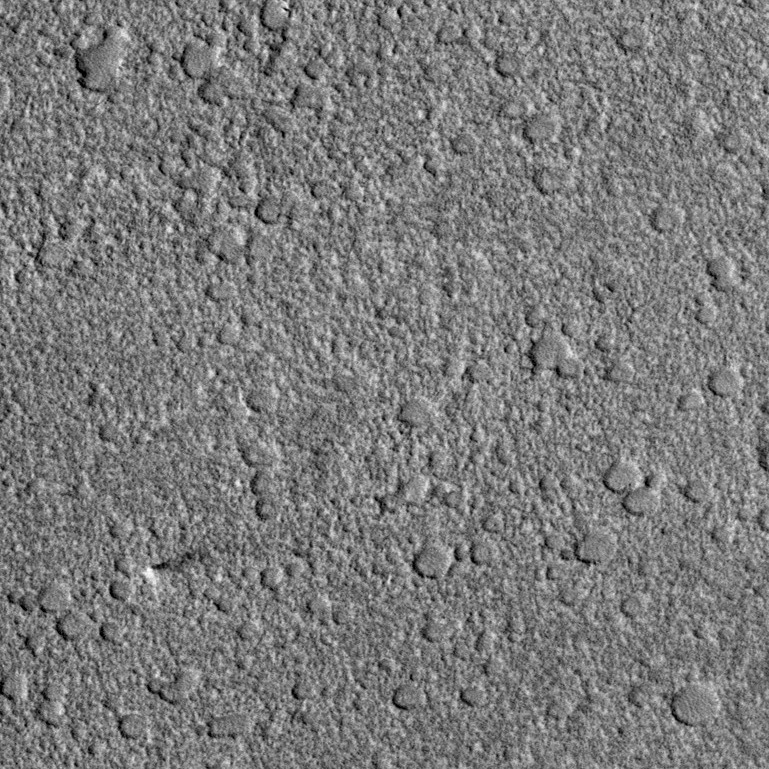dust_devil: (139, 546, 201, 588)
